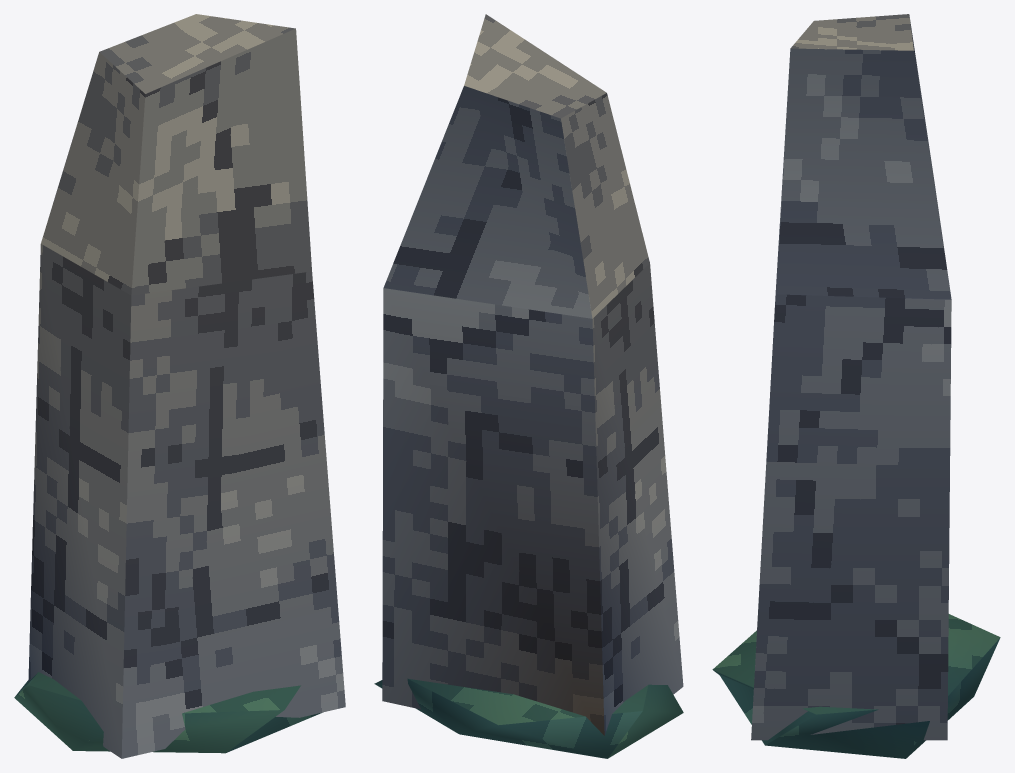
Rendered from mnat.rock__standing.glb.
The picture shows the model from 3 angles, left to right: view 1: azimuth 30°, elevation 25°; view 2: azimuth 150°, elevation 25°; view 3: azimuth 270°, elevation 25°; orthographic projection. The views are drawn at different scales.
Parts seen in each view (by area): view 1: kit_rock, kit_moss; view 2: kit_rock, kit_moss; view 3: kit_rock, kit_moss.
Boxes of the visible parts, x1=… form: kit_rock: x1=28, y1=14, x2=345, y2=758; kit_moss: x1=14, y1=672, x2=322, y2=753; kit_rock: x1=382, y1=14, x2=683, y2=735; kit_moss: x1=374, y1=678, x2=683, y2=758; kit_rock: x1=751, y1=14, x2=951, y2=740; kit_moss: x1=712, y1=614, x2=1000, y2=758.
Size of the model in its own units: 1.04 by 2.49 by 0.9323.
2 materials, 2 textured.
